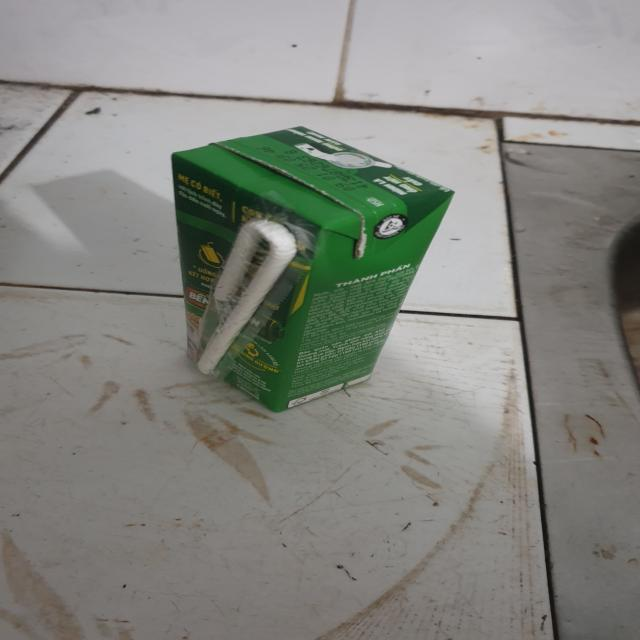Milo: (176, 130, 455, 412)
